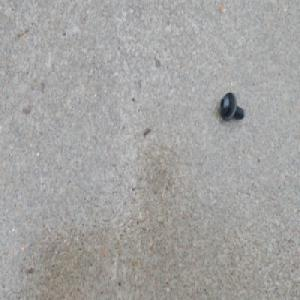BoltWasher: (218, 93, 244, 125)
